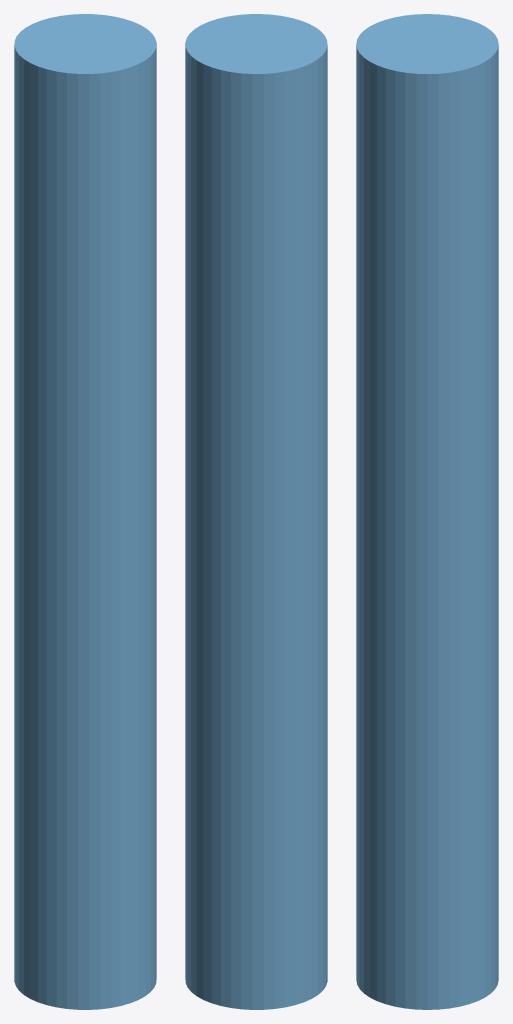
File: med_insulin_pen_0001.glb
The picture shows the model from 3 angles, left to right: view 1: azimuth 30°, elevation 25°; view 2: azimuth 150°, elevation 25°; view 3: azimuth 270°, elevation 25°; orthographic projection.
Parts seen in each view (by area): view 1: z-up-to-y-up; view 2: z-up-to-y-up; view 3: z-up-to-y-up.
Boxes of the visible parts, x1,y1,x2,y2 form: z-up-to-y-up: (14,14,156,1009); z-up-to-y-up: (185,14,327,1009); z-up-to-y-up: (356,14,498,1009).
Bounding box in the file's own units: 0.0171 × 0.1239 × 0.0171.
